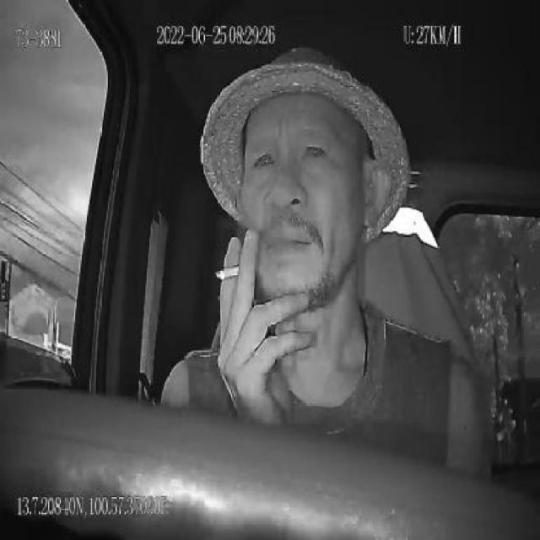smoking: (214, 264, 239, 283)
